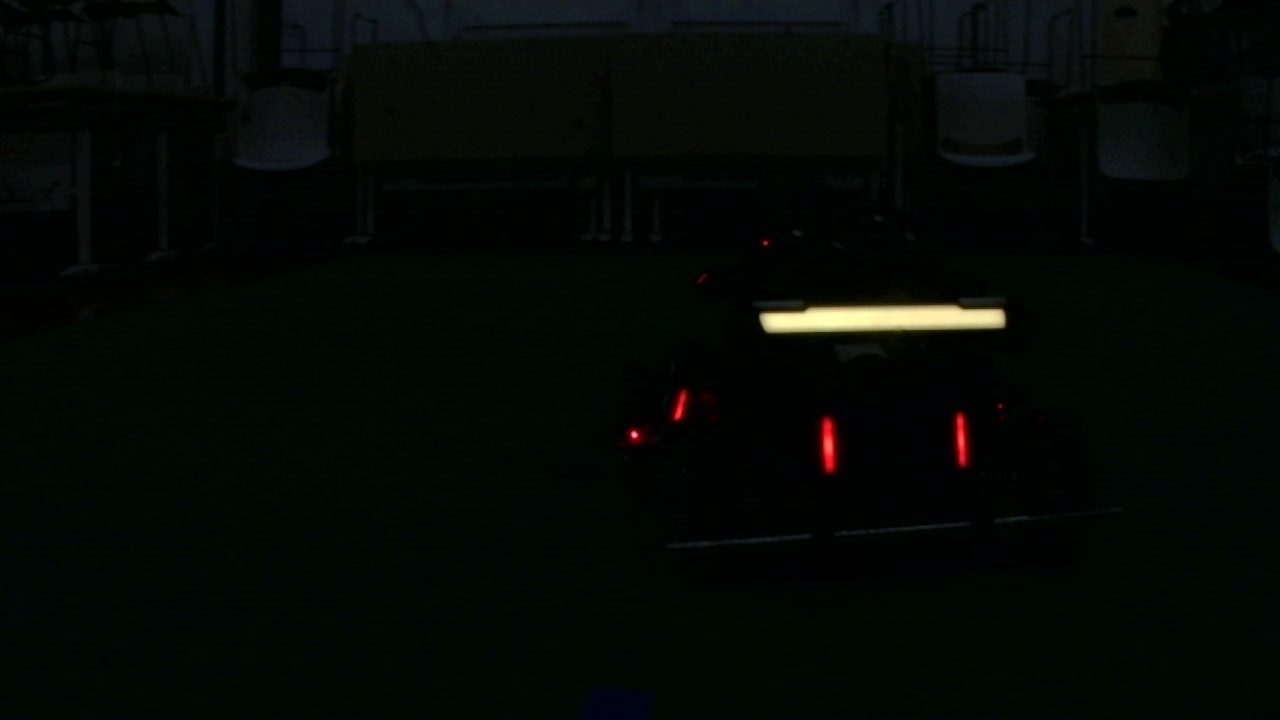lamp: (821, 411, 840, 475), (955, 410, 968, 465), (673, 382, 688, 428)
notpair1: (674, 384, 838, 477)
pair1: (820, 414, 968, 468)
